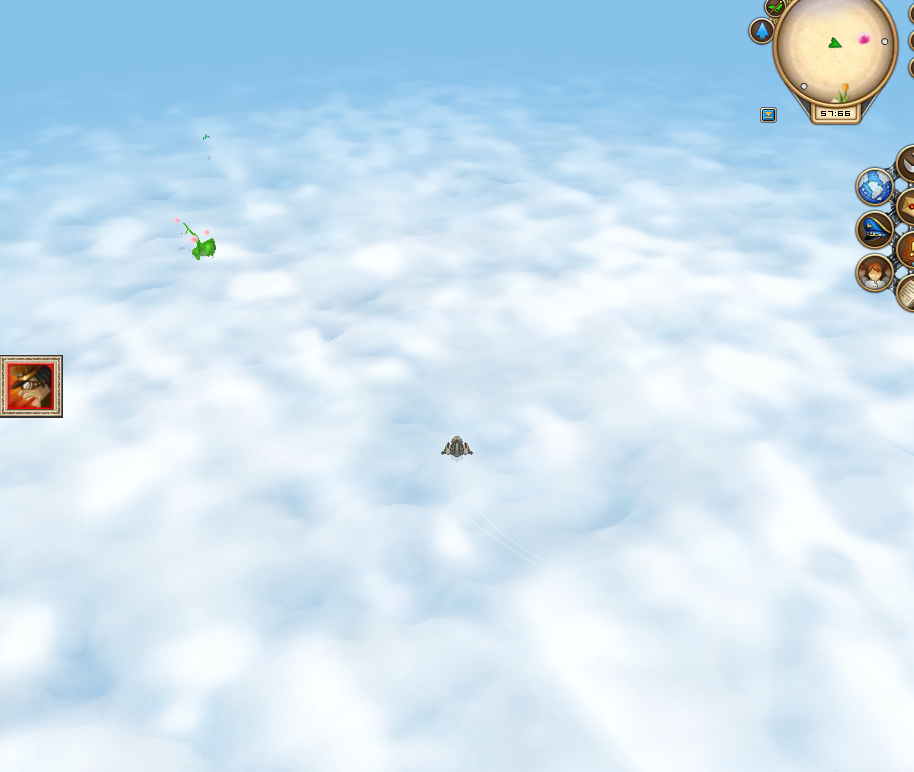dandelion-full: (169, 210, 219, 262)
